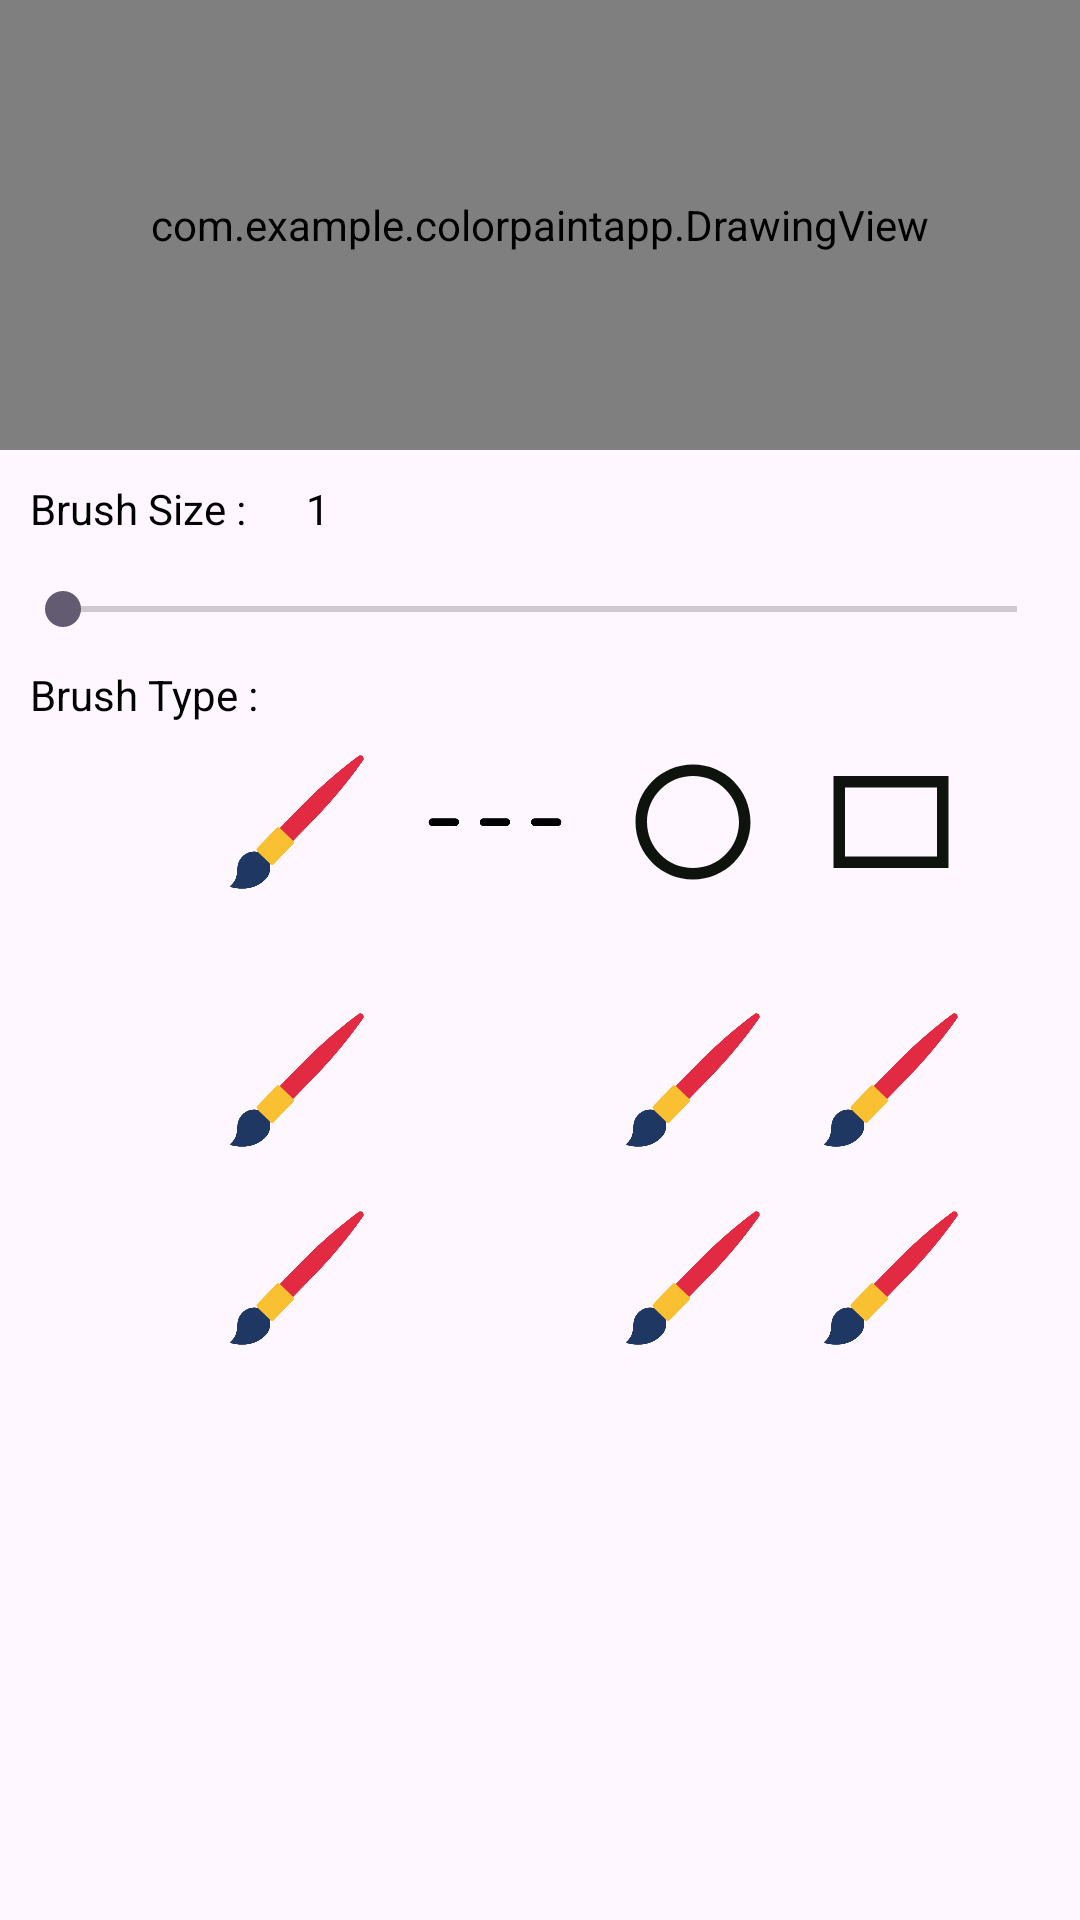

Named icons in this screenshot (1080x1920) and their bounding boxes, bbox=[x1, y1, x2, y2]:
pen: bbox=[230, 755, 364, 889], bbox=[230, 1013, 364, 1147], bbox=[626, 1013, 760, 1147], bbox=[824, 1013, 958, 1147], bbox=[230, 1211, 364, 1345], bbox=[626, 1211, 760, 1345], bbox=[824, 1211, 958, 1345]
